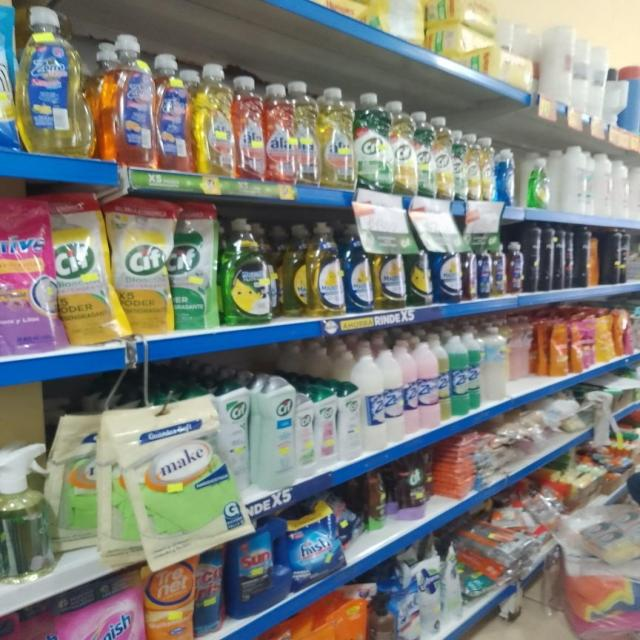ala_conc_amarillo: (195, 61, 234, 178), (321, 86, 354, 190), (296, 82, 320, 186)
ala_conc_rojo: (266, 79, 295, 184), (236, 75, 264, 182)
cif_conc_bot_amarilla: (393, 100, 414, 196), (434, 118, 453, 200), (468, 133, 482, 201), (481, 136, 495, 201)
cif_conc_botella_verde: (355, 92, 389, 192), (415, 111, 434, 198), (452, 130, 467, 200)
cif_conc_sachet_amarillo: (57, 192, 113, 346), (114, 196, 170, 337)
cif_conc_sachet_verde: (172, 202, 219, 331)
drive: (0, 197, 57, 356), (570, 308, 594, 373)
magistral_con_amarillo: (310, 221, 343, 317), (280, 223, 308, 318), (374, 227, 406, 310)
magistral_con_azul: (345, 223, 372, 314), (433, 233, 462, 304), (407, 232, 432, 307), (463, 235, 476, 302)
magistral_con_verde: (222, 217, 275, 326)
zorro: (19, 5, 91, 156), (101, 32, 155, 168), (155, 52, 192, 172), (338, 345, 362, 459), (362, 343, 386, 452), (418, 336, 440, 432), (384, 339, 403, 445), (484, 325, 508, 405), (451, 333, 469, 418), (404, 338, 418, 437), (469, 329, 482, 414), (439, 334, 451, 424), (477, 237, 493, 300), (508, 241, 525, 294), (493, 239, 507, 297)
